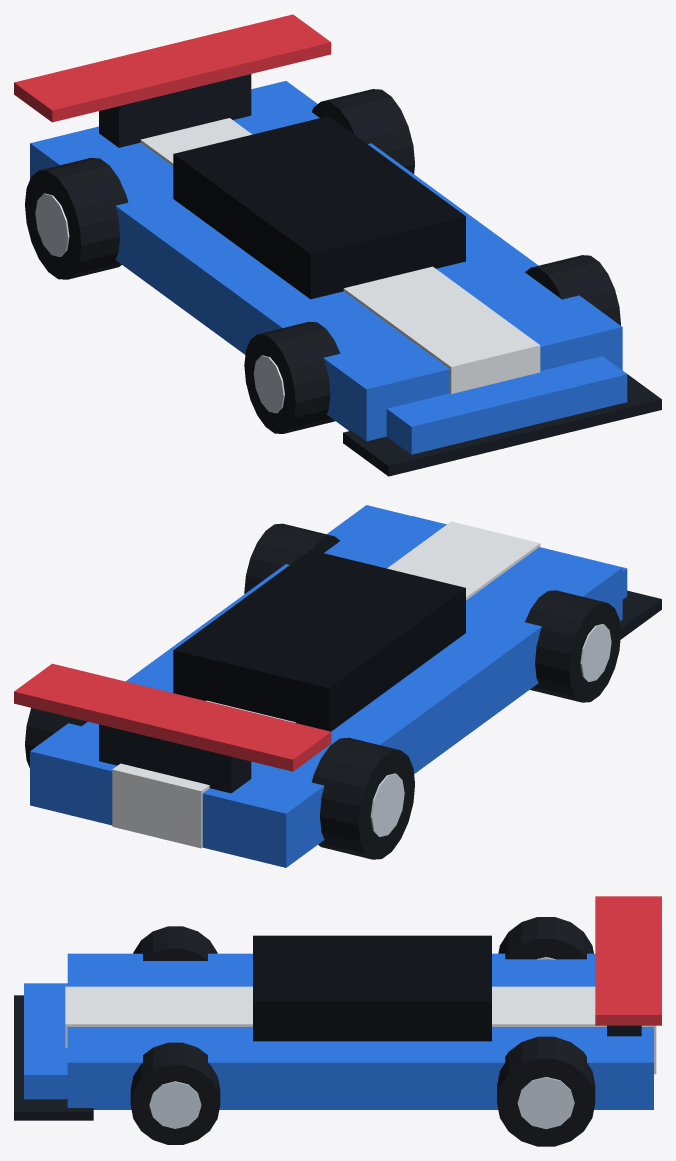
File: aero-saber.glb
The picture shows the model from 3 angles, top to bottom: view 1: azimuth 30°, elevation 25°; view 2: azimuth 150°, elevation 25°; view 3: azimuth 270°, elevation 25°; orthographic projection. The views are drawn at different scales.
Parts seen in each view (by area): view 1: RaceCar; view 2: RaceCar; view 3: RaceCar.
Part boxes in pixels (x1,y1,x2,y2): RaceCar: (14,14,661,476); RaceCar: (14,505,661,867); RaceCar: (14,896,661,1146).
Bounding box in the file's own units: 2.34 × 0.9153 × 4.47.
